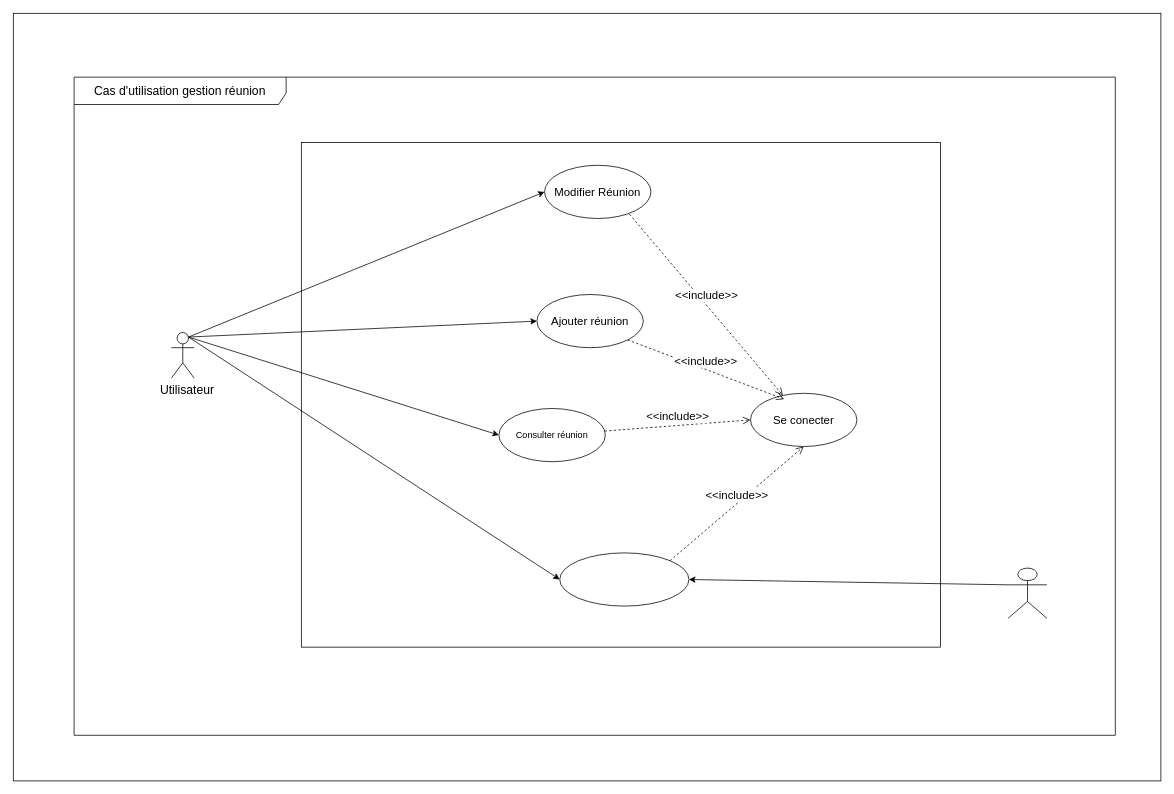
This 1174x794 diagram has some shape labels left out. Each missing label, with the centre of its shape:
Notifier le participant au sujet d'une reunion: (x=624, y=579)
Serveur de Messagerie: (x=1027, y=592)
